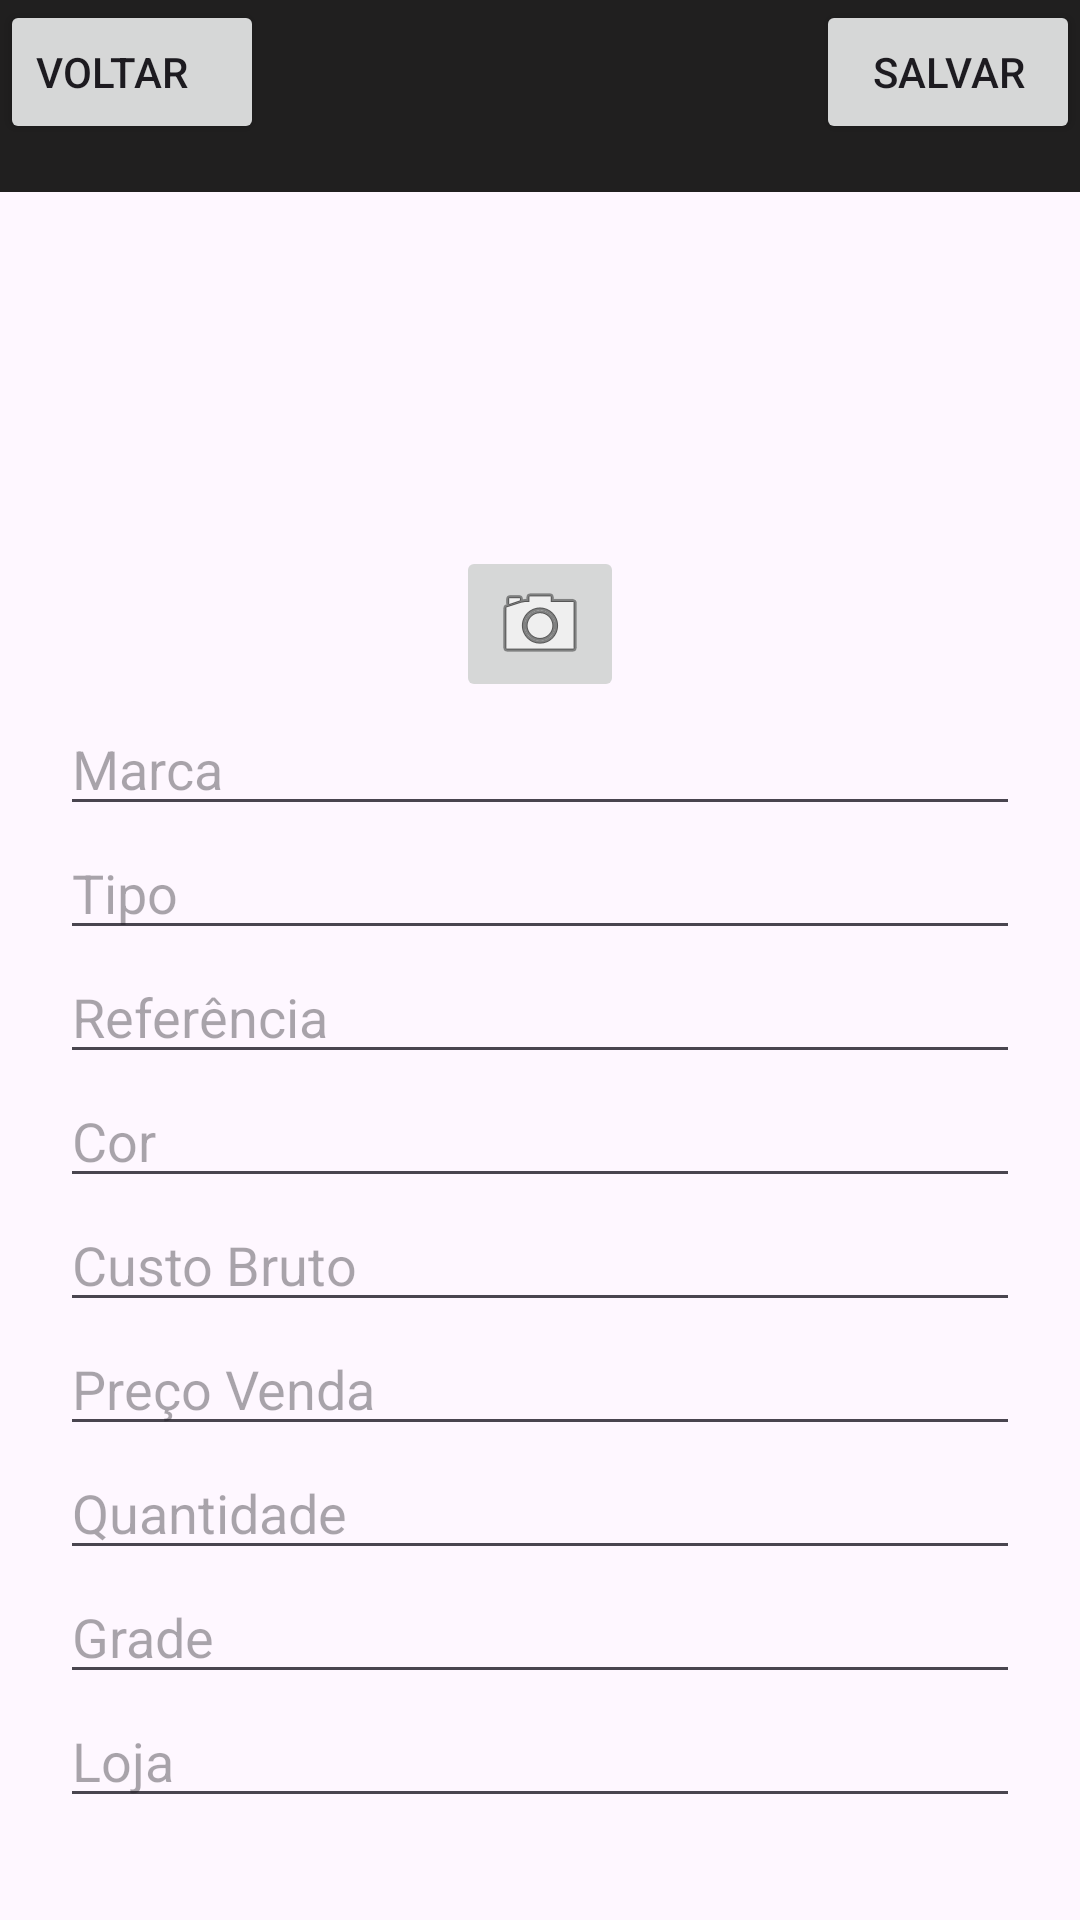

Named icons in this screenshot (1080w x 1920h) and their bounding boxes, (x1, y1, x2, y2):
camera: (468, 564, 612, 684)
